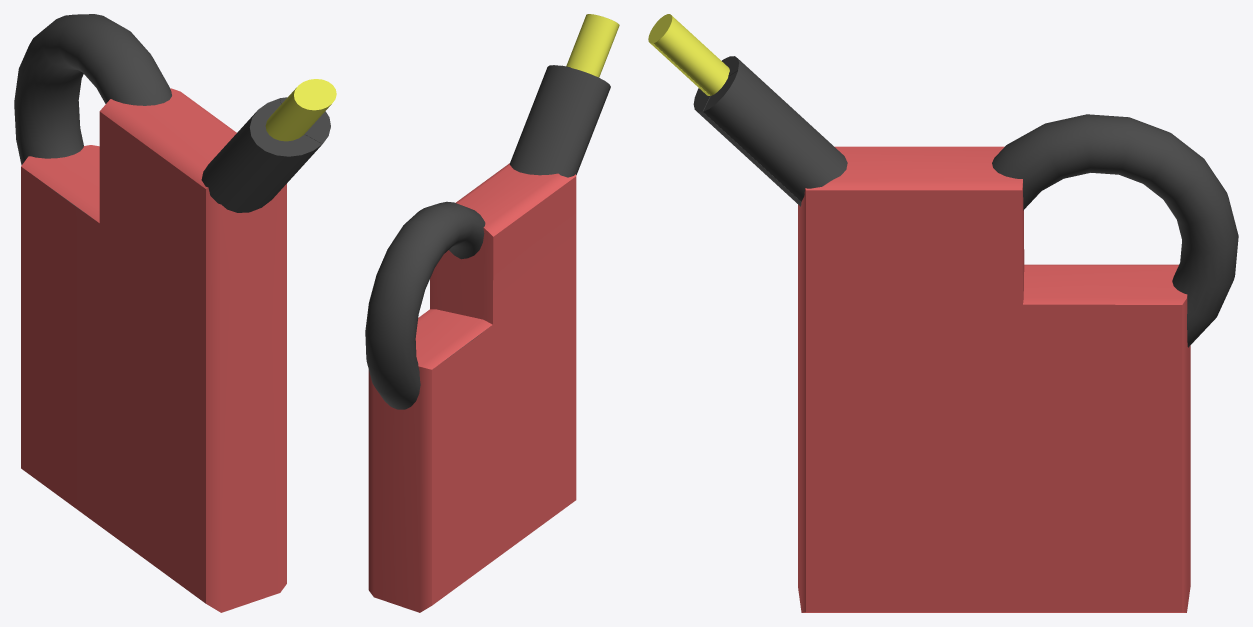
The model's file is gas.fbx.
3 renders of one model, left to right at view 1: azimuth 30°, elevation 25°; view 2: azimuth 150°, elevation 25°; view 3: azimuth 270°, elevation 25°, orthographic. The views are drawn at different scales.
Visible parts, largest first — view 1: pCube18; view 2: pCube18; view 3: pCube18.
Boxes of the visible parts, x1,y1,x2,y2 form: pCube18: (14, 14, 336, 612); pCube18: (365, 14, 619, 612); pCube18: (648, 14, 1238, 612).
Bounding box in the file's own units: 0.00213 × 0.0144 × 0.0132.
